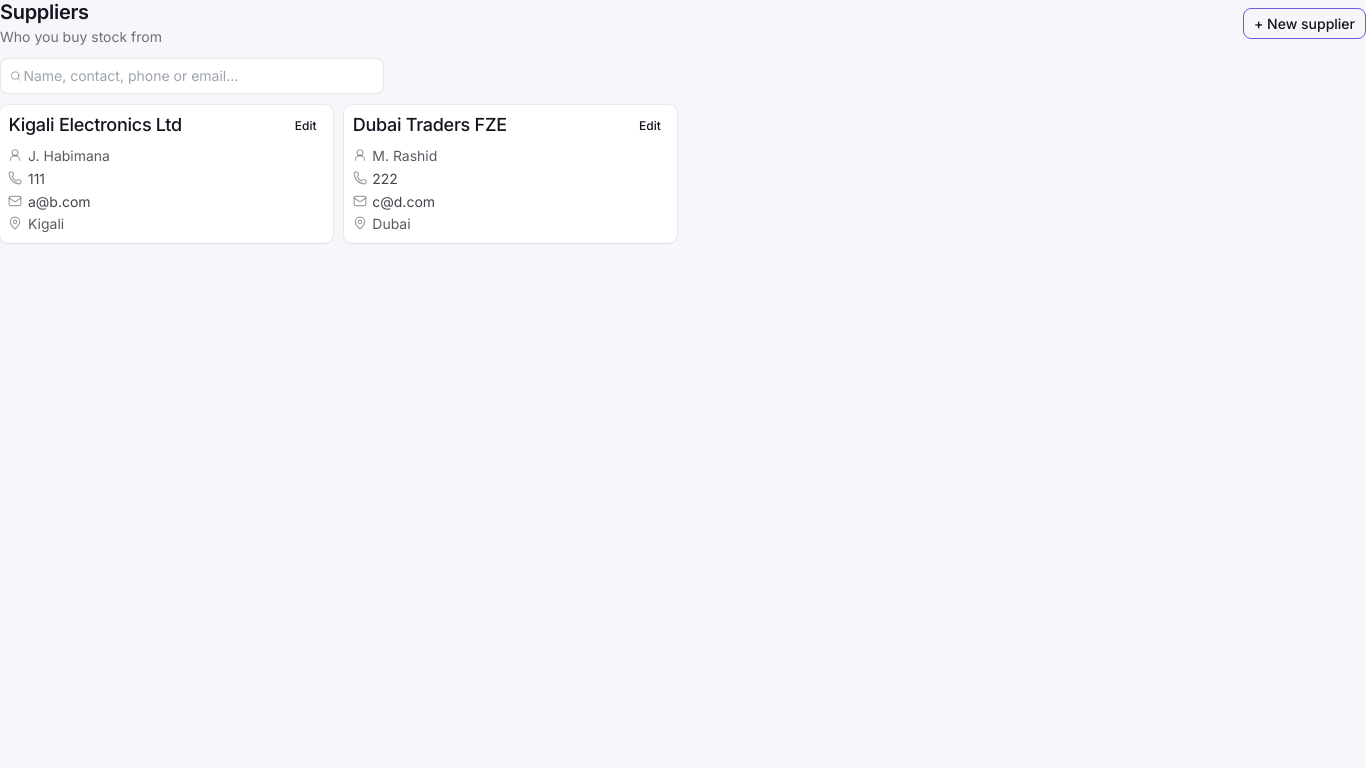
it: SuppliersPageClient › opens the create dialog from the toolbar button
The width and height of the screenshot is (1366, 768).
expect the heading "Kigali Electronics Ltd" is shown: met, box [8, 114, 182, 135]
Step 1. Click the button "+ New supplier" → (1304, 24), box [1243, 8, 1365, 39]
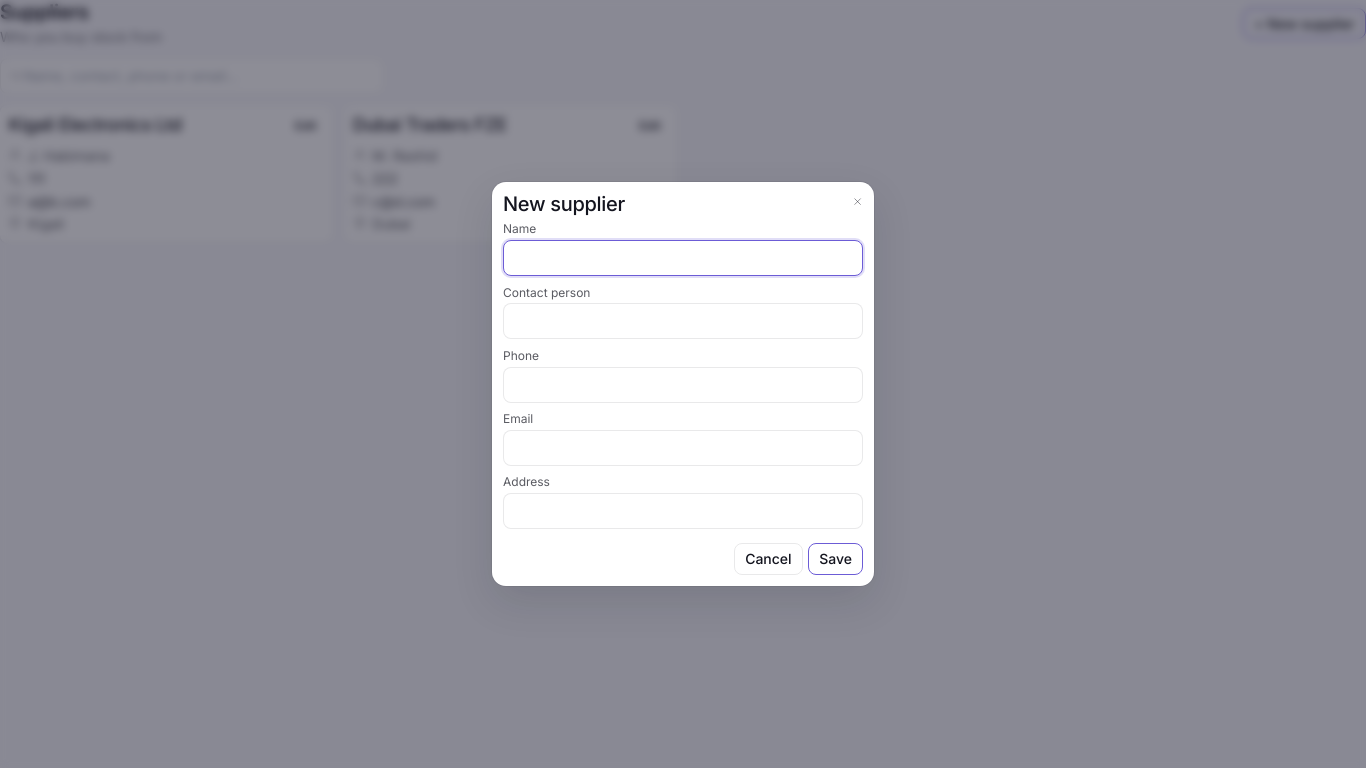
expect the heading "New supplier" is shown: met, box [503, 192, 625, 216]
